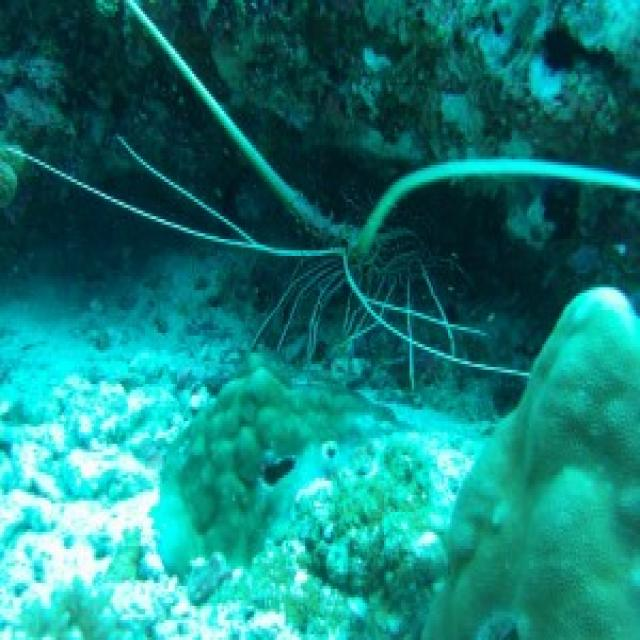lobsters: (112, 20, 604, 442)
